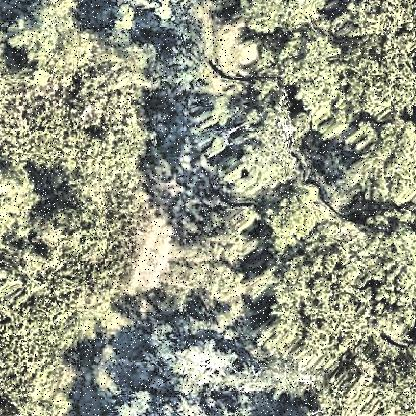tree-top: (263, 187, 379, 367), (201, 84, 307, 190), (10, 2, 92, 92), (339, 33, 416, 123), (341, 116, 416, 206), (284, 32, 347, 130), (48, 182, 122, 262), (157, 335, 237, 405), (379, 216, 416, 328), (239, 357, 321, 406), (1, 168, 50, 246), (233, 1, 335, 33), (339, 1, 416, 43)
